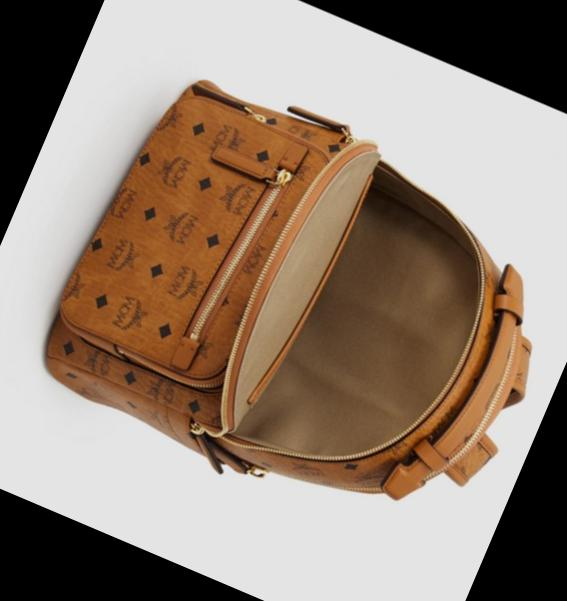MCM: (28, 53, 567, 553)
